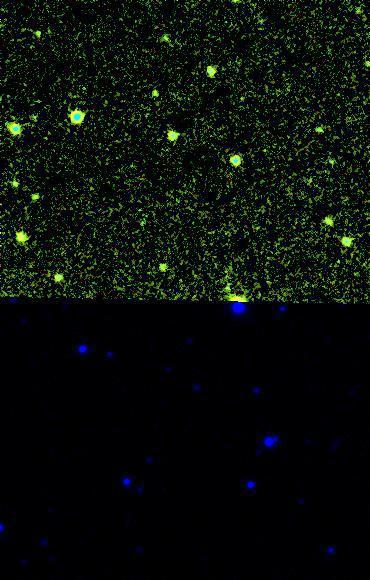star: (38, 16, 68, 46)
